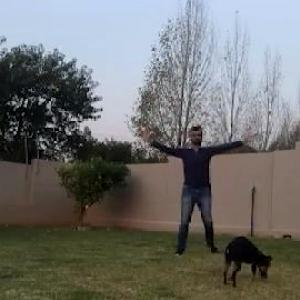takeoff: (143, 124, 267, 264)
